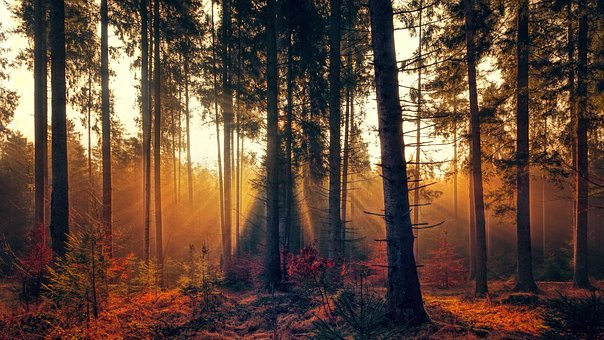forest: (3, 1, 586, 340)
tree: (215, 1, 452, 327), (449, 1, 588, 294), (14, 1, 153, 293)
